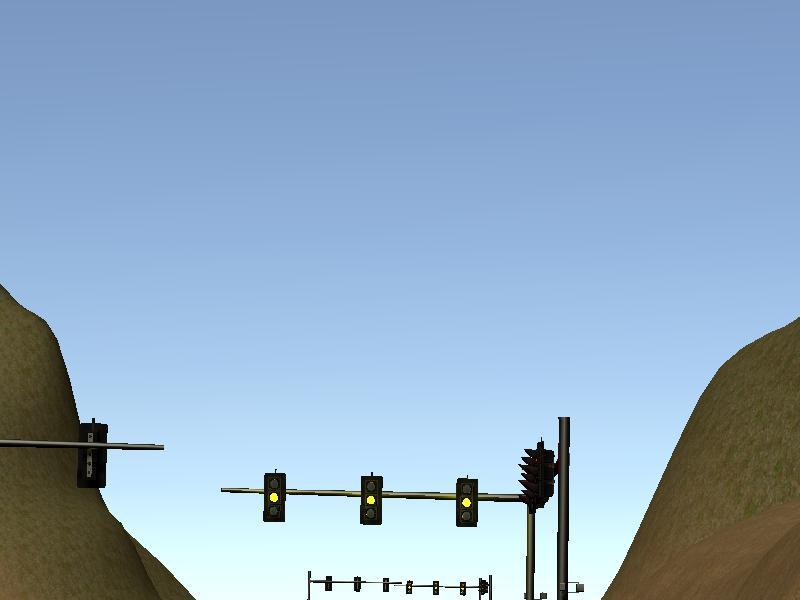Yellow: (455, 478, 479, 528), (263, 473, 286, 522), (362, 475, 384, 525)
